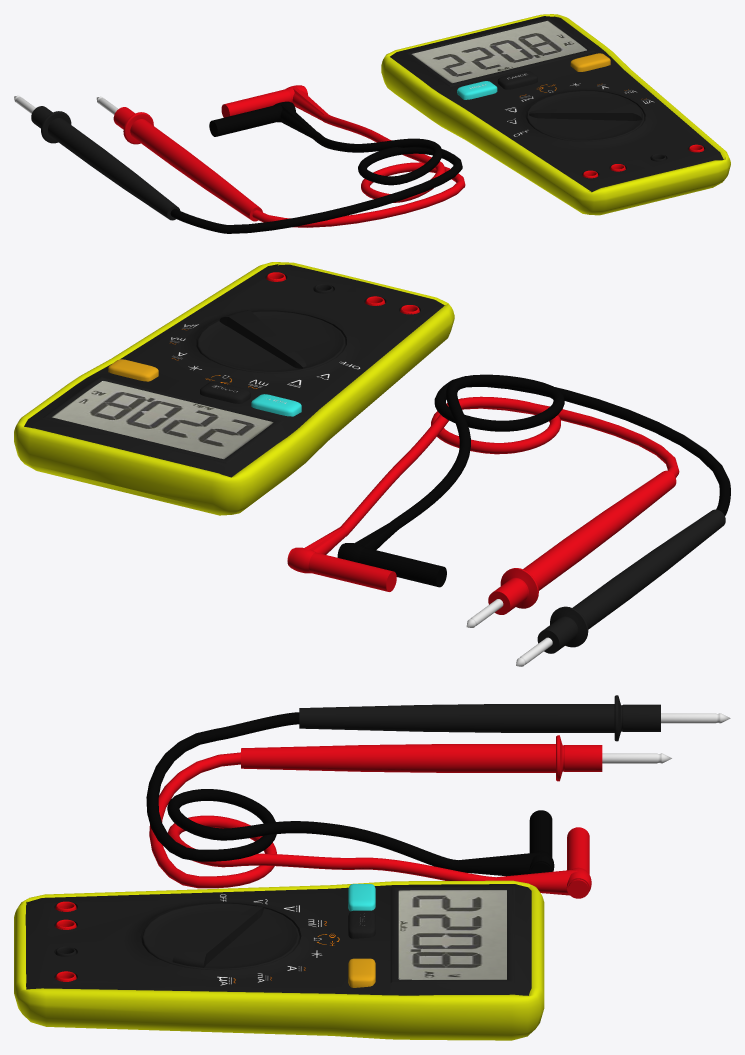
The model's file is Fluck.glb.
3 renders of one model, top to bottom at view 1: azimuth 30°, elevation 25°; view 2: azimuth 150°, elevation 25°; view 3: azimuth 270°, elevation 25°, orthographic. The views are drawn at different scales.
Visible parts, largest first — view 1: Cube, BezierCurve.001, Cylinder, Cylinder.001, BezierCurve, Cylinder.003, Cylinder.002, Cube.007, Cube.001, Cube.003; view 2: Cube, BezierCurve.001, Cylinder.001, Cylinder, BezierCurve, Cylinder.002, Cylinder.003, Cube.007, Cube.001, Cube.003; view 3: Cube, Cylinder.001, Cylinder, BezierCurve.001, BezierCurve, Cylinder.003, Cylinder.002, Cube.007, Cube.003, Cube.001.
Boxes of the visible parts, x1,y1,x2,y2 form: Cube: [381, 14, 730, 215]; BezierCurve.001: [170, 130, 462, 233]; Cylinder: [96, 96, 262, 221]; Cylinder.001: [14, 95, 180, 220]; BezierCurve: [252, 113, 465, 227]; Cylinder.003: [209, 101, 315, 137]; Cylinder.002: [221, 85, 328, 120]; Cube.007: [457, 53, 610, 99]; Cube.001: [497, 71, 537, 89]; Cube.003: [582, 144, 704, 178]; Cube: [14, 262, 454, 515]; BezierCurve.001: [391, 374, 730, 530]; Cylinder.001: [516, 509, 725, 666]; Cylinder: [466, 470, 676, 627]; BezierCurve: [340, 396, 679, 536]; Cylinder.002: [287, 526, 396, 591]; Cylinder.003: [337, 522, 446, 587]; Cube.007: [108, 359, 301, 416]; Cube.001: [200, 381, 250, 403]; Cube.003: [266, 272, 419, 314]; Cube: [14, 880, 544, 1040]; Cylinder.001: [299, 695, 730, 741]; Cylinder: [241, 735, 671, 781]; BezierCurve.001: [146, 712, 458, 870]; BezierCurve: [149, 752, 495, 888]; Cylinder.003: [457, 810, 554, 876]; Cylinder.002: [494, 827, 591, 898]; Cube.007: [348, 884, 375, 987]; Cube.003: [55, 901, 76, 981]; Cube.001: [348, 910, 375, 938].
Size of the model in its own units: 6.3 by 0.6676 by 5.91.
Materials: 20 (12 with a texture image).
